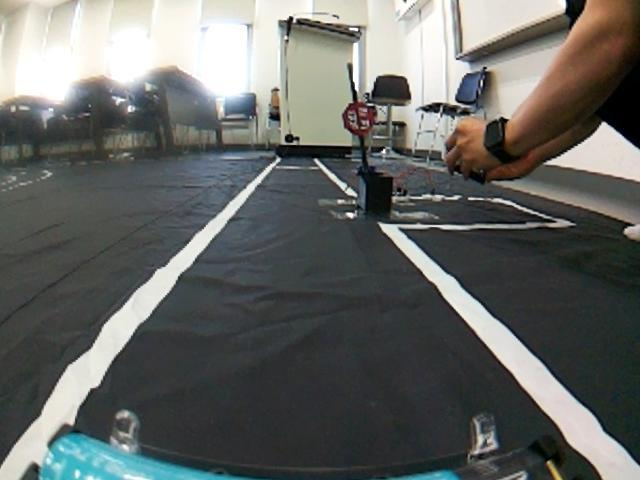sign_stop: (340, 98, 379, 137)
straight: (0, 218, 640, 480)
